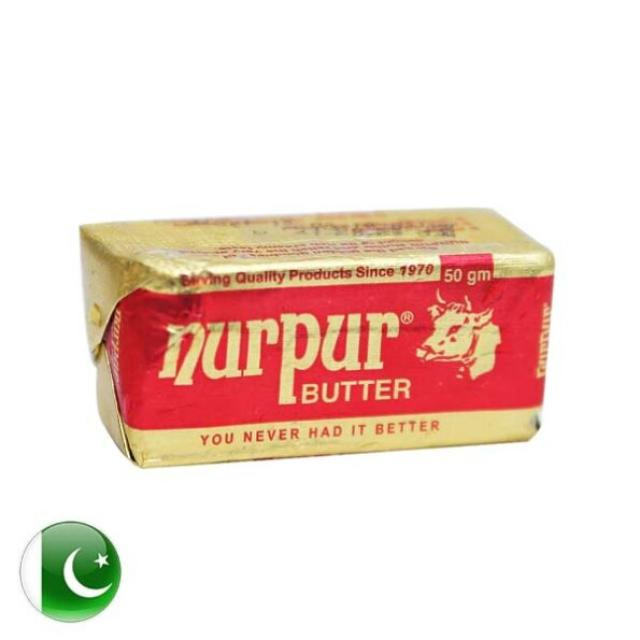butter: (77, 205, 555, 468)
